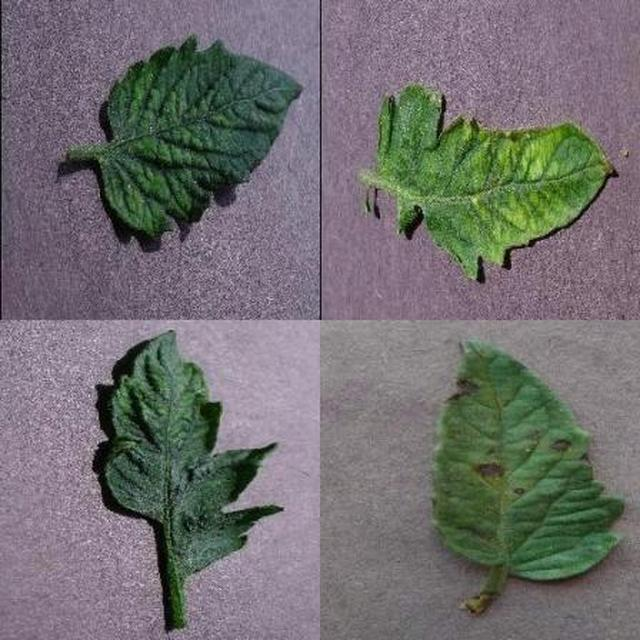Mosaic Virus Leaf: (267, 198, 640, 640)
